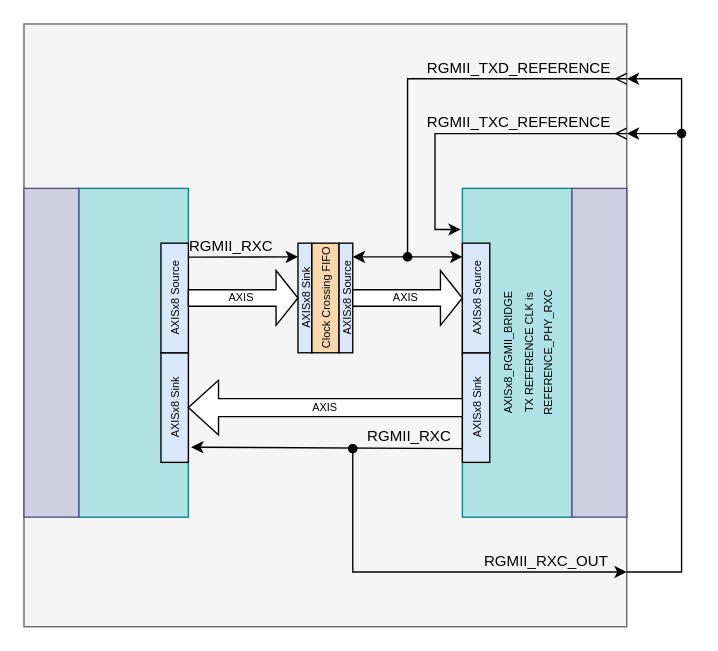
Some shapes in this 718 by 651 pixel diagram are drawn without their labels. Each missing label, with the centre of its shape:
"GMII/MII" belongs at pixel 51 352.
"RGMII" belongs at pixel 599 352.
